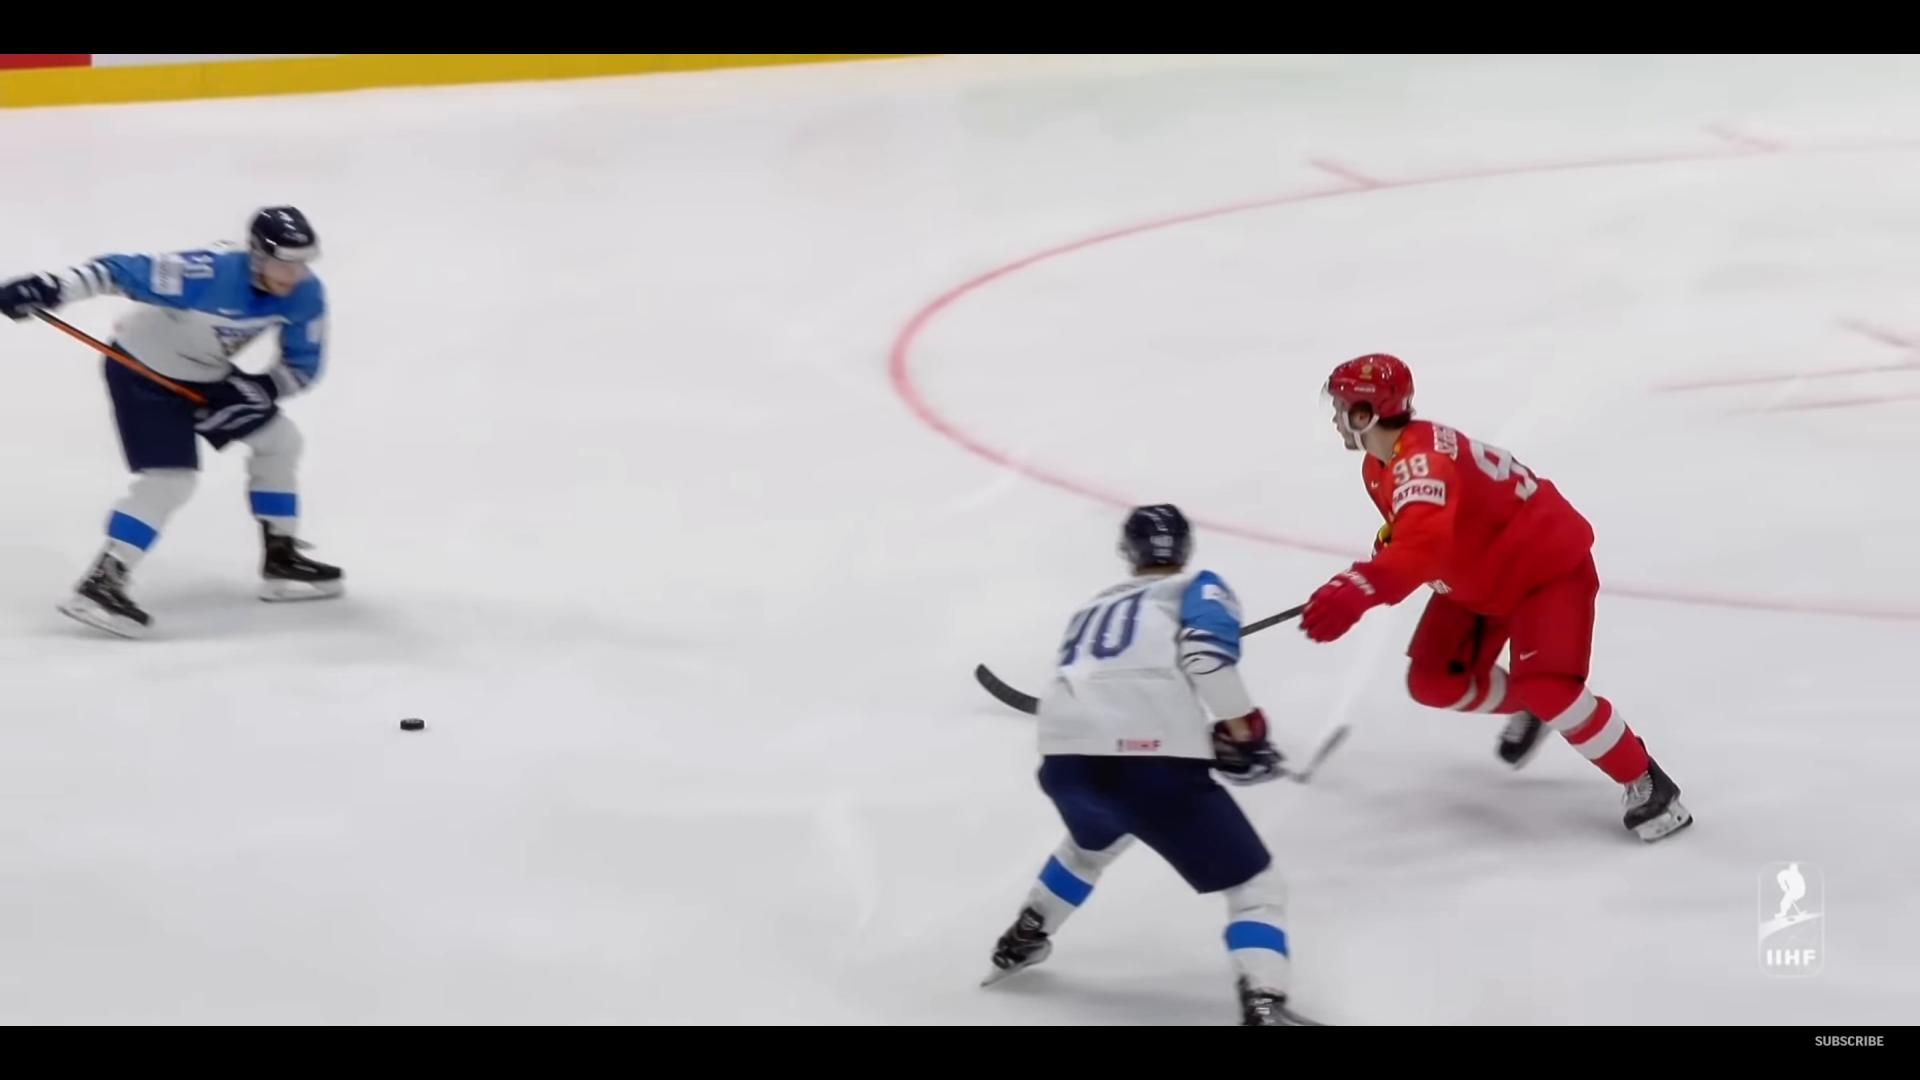puck: (400, 716, 425, 731)
